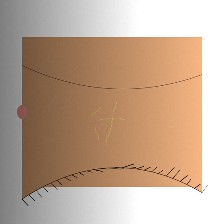corneal_ulcer: (69, 93, 137, 148)
